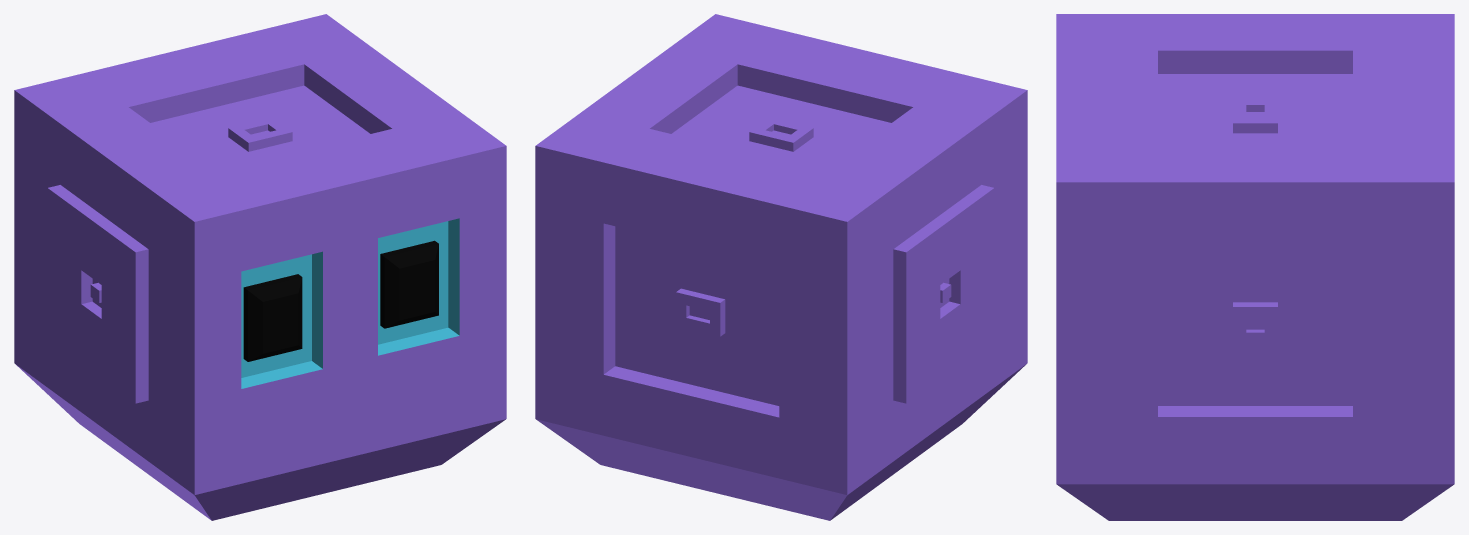
File: Cubert1_Neutral.fbx
3 renders of one model, left to right at view 1: azimuth 30°, elevation 25°; view 2: azimuth 150°, elevation 25°; view 3: azimuth 270°, elevation 25°, orthographic. The views are drawn at different scales.
Parts seen in each view (by area): view 1: Cubert_v1; view 2: Cubert_v1; view 3: Cubert_v1.
Boxes of the visible parts, <box> form: Cubert_v1: <box>14,14,506,520</box>; Cubert_v1: <box>535,14,1027,520</box>; Cubert_v1: <box>1056,14,1454,520</box>.
Bounding box in the file's own units: 33.1 × 31.78 × 31.78.
